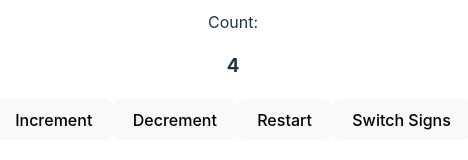
Test: Counter › counter should restart to 0 if the restart button is clicked
Expected: the heading with test id "count" reads "4", [227,54,239,77]
Click the button "Restart". click: coordinates (285, 120)
box: [237,99,332,140]
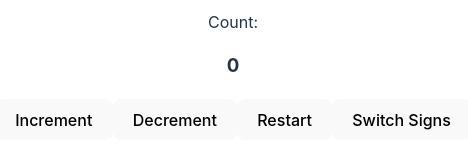
Expected: the heading with test id "count" reads "0", [227,54,239,77]
